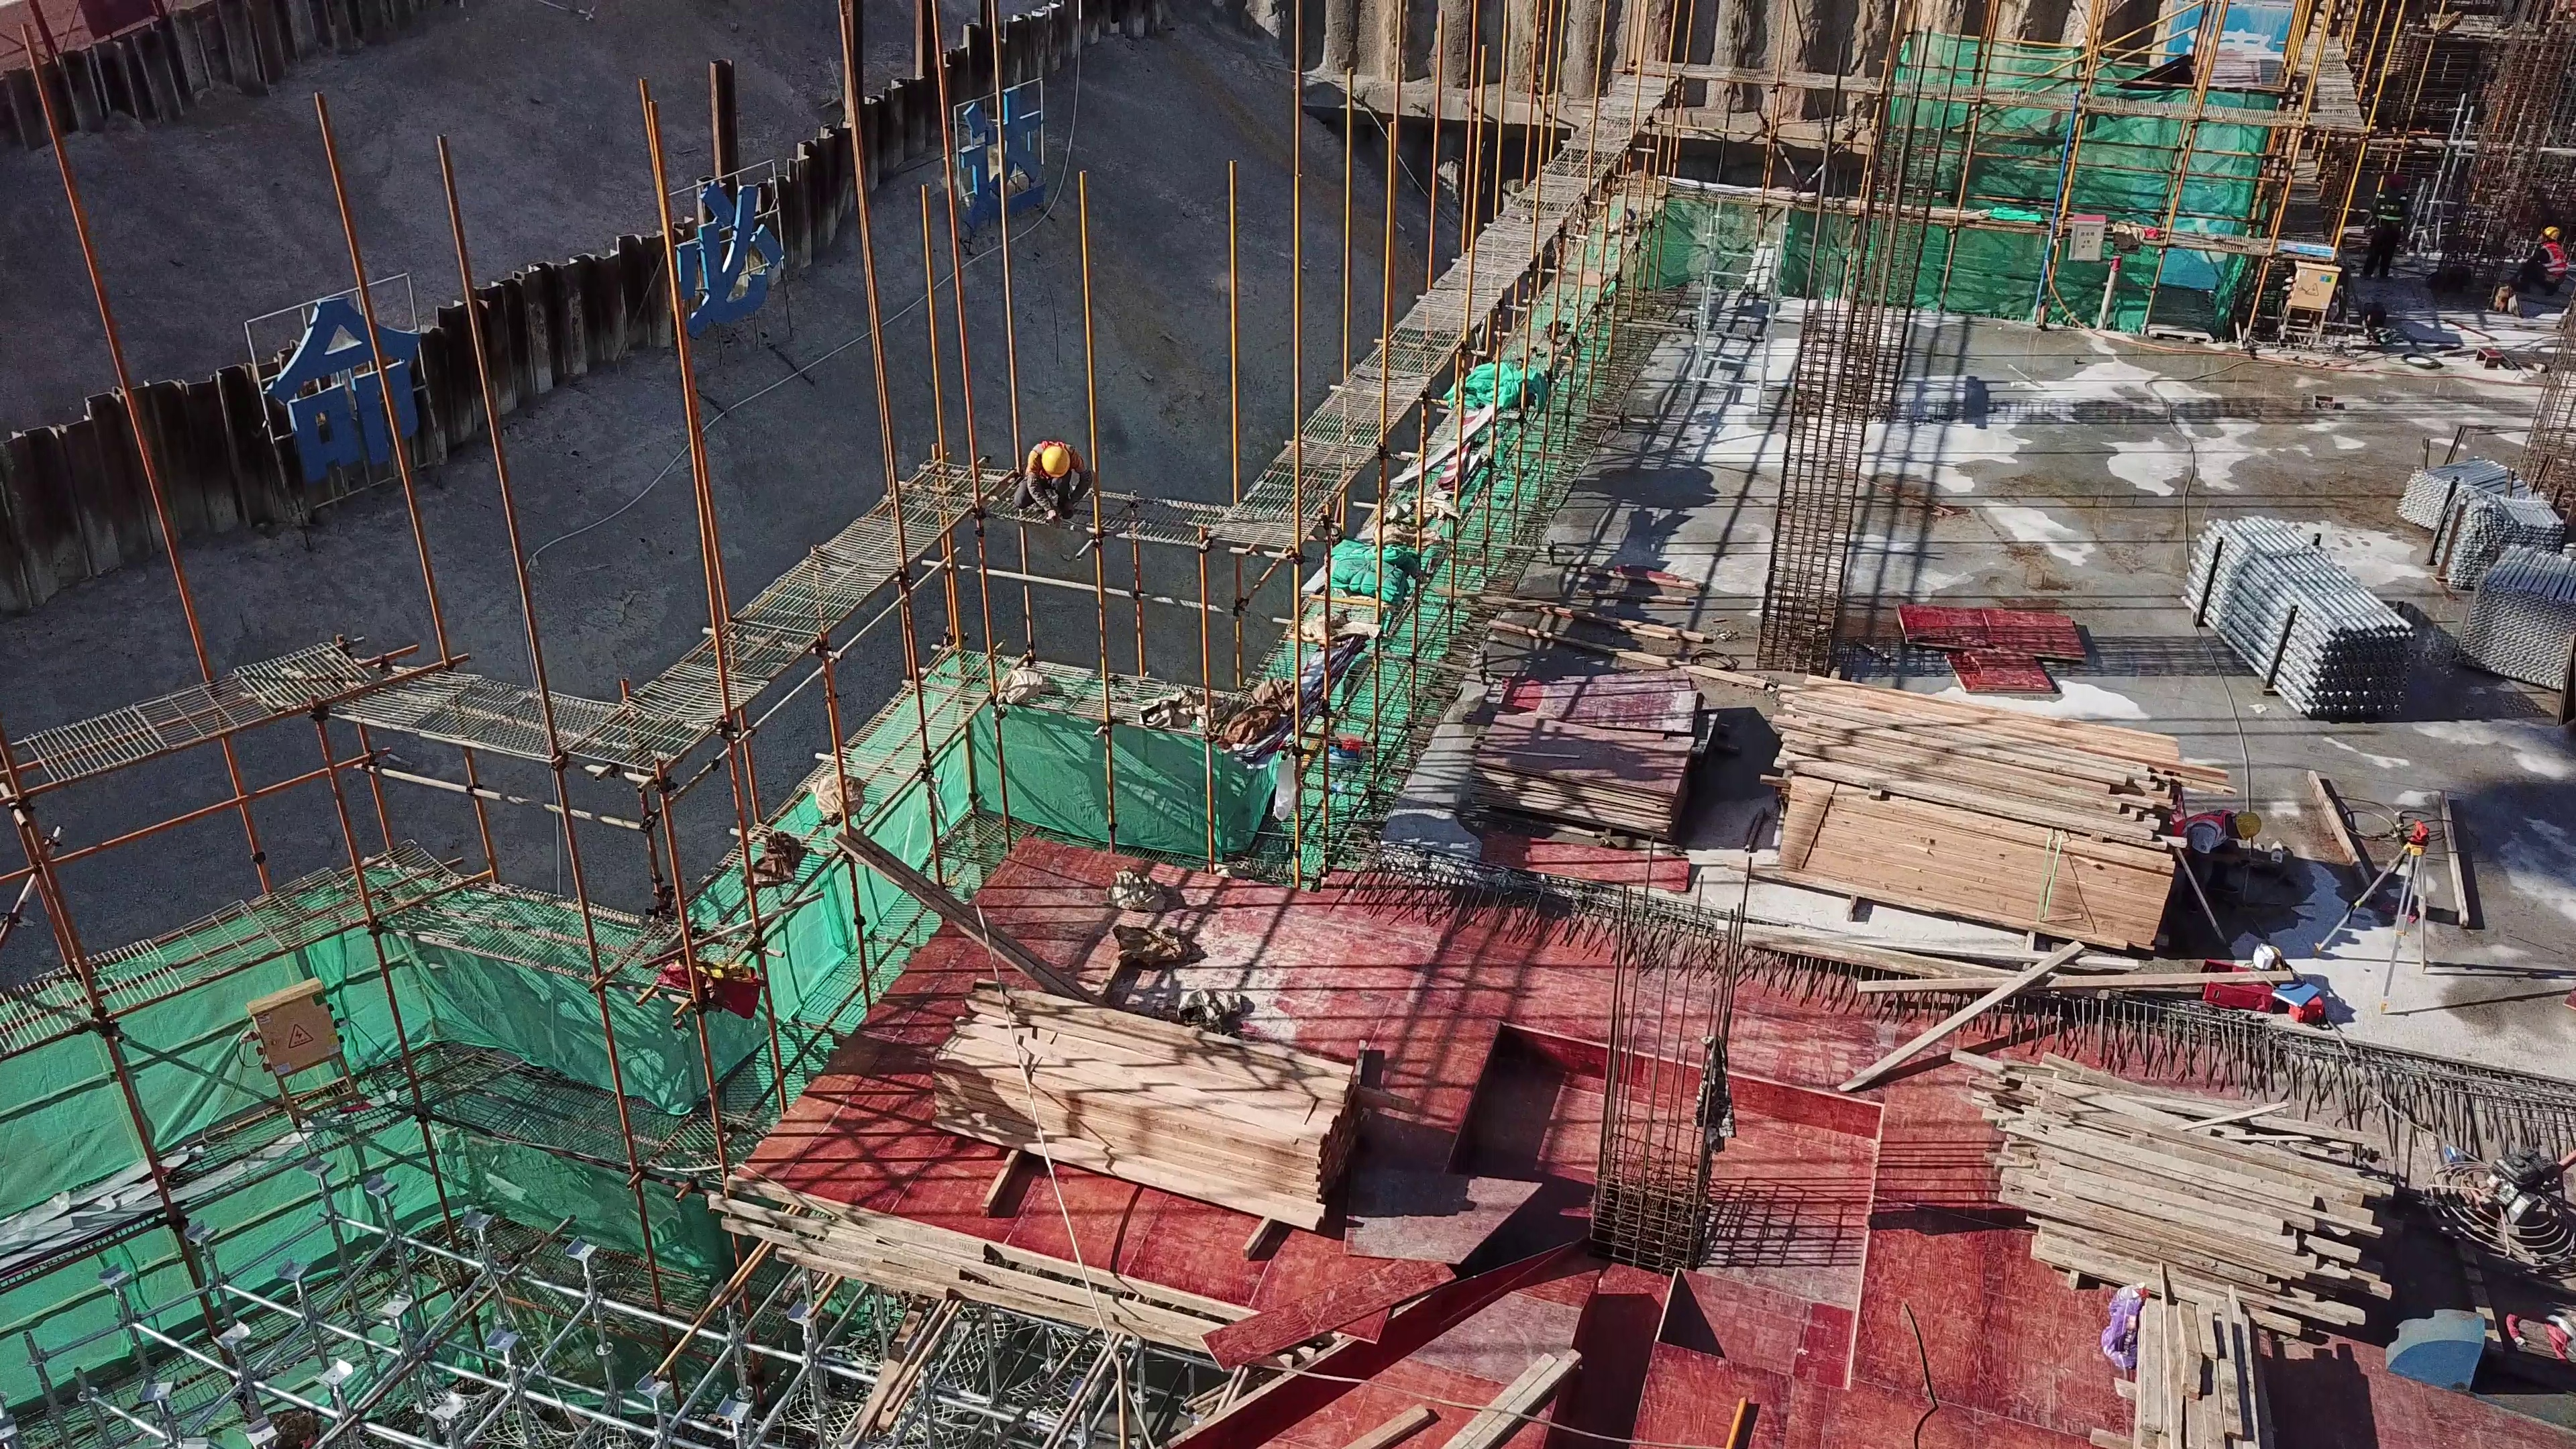board: (1468, 708, 1691, 840), (1494, 676, 1718, 760)
ebox: (247, 973, 362, 1126), (2281, 261, 2339, 345)
helmet: (1042, 445, 1072, 478), (2542, 225, 2559, 241)
person: (2167, 807, 2259, 916), (1010, 437, 1094, 523), (2361, 170, 2406, 280), (2506, 225, 2570, 297)
scaffold: (2181, 512, 2416, 719), (2450, 541, 2576, 693), (2434, 494, 2565, 588), (2398, 455, 2533, 531)
wood: (1946, 1044, 2397, 1339), (1762, 675, 2179, 949), (928, 972, 1355, 1232), (2117, 1267, 2270, 1409)
